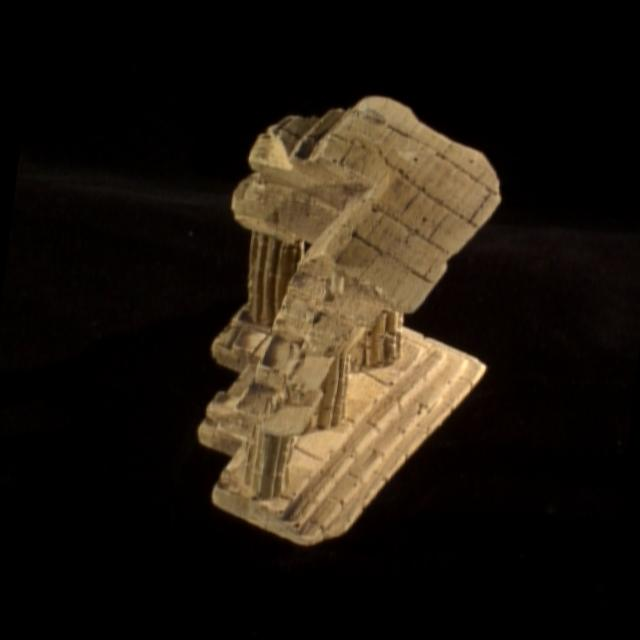Instance-Segmentation: (196, 97, 496, 544)
